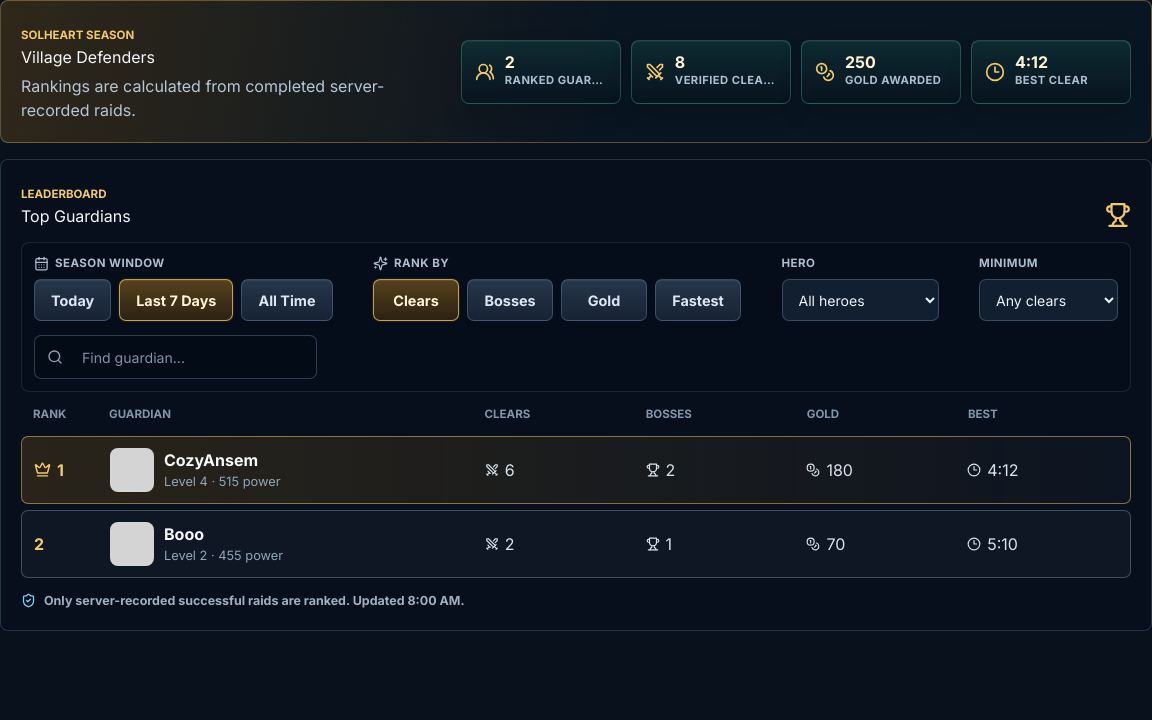
Test: EventBoardPanel › filters by guardian search and shows an honest empty state
This screenshot has width=1152, height=720.
Expected: the text "CozyAnsem" is shown, [164,450,258,470]
In the field labelled "Find guardian": (187, 357) [70,336,304,378], type "Nobody"
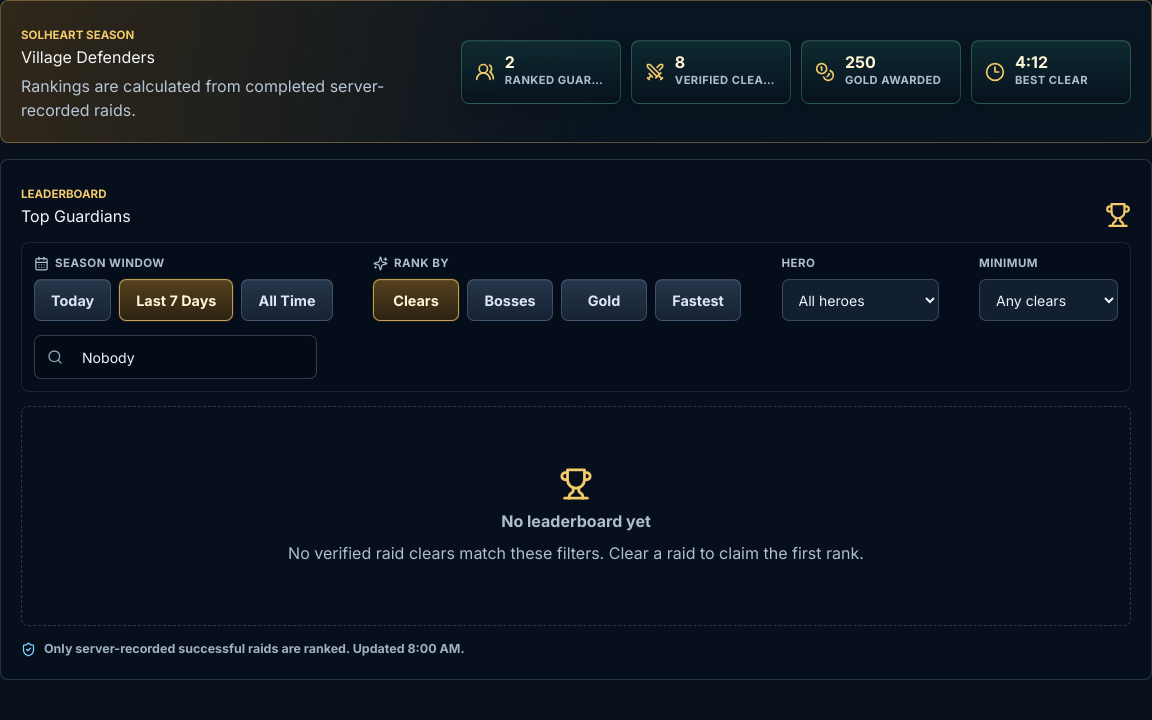
Now the text "CozyAnsem" is gone
Now the text "No leaderboard yet" is shown, box [501,509,651,533]
Now the text "No verified raid clears match these filters" is shown, box [288,543,864,563]
